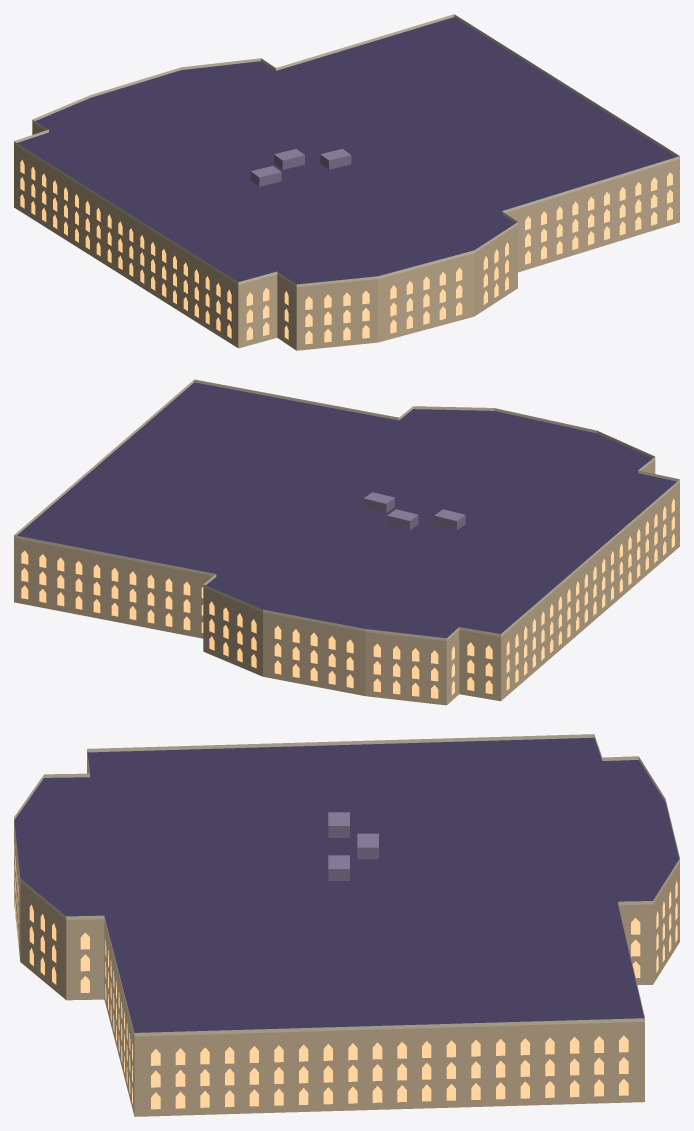
File: b-115-thompson-arena.glb
3 renders of one model, top to bottom at view 1: azimuth 30°, elevation 25°; view 2: azimuth 150°, elevation 25°; view 3: azimuth 270°, elevation 25°, orthographic. The views are drawn at different scales.
Visible parts, largest first — view 1: campus/b-115-thompson-arena-0; view 2: campus/b-115-thompson-arena-0; view 3: campus/b-115-thompson-arena-0.
Boxes of the visible parts, x1,y1,x2,y2 form: campus/b-115-thompson-arena-0: (14,14,679,350); campus/b-115-thompson-arena-0: (14,379,679,705); campus/b-115-thompson-arena-0: (14,734,679,1116).
Bounding box in the file's own units: 97.38 × 14 × 91.72.
